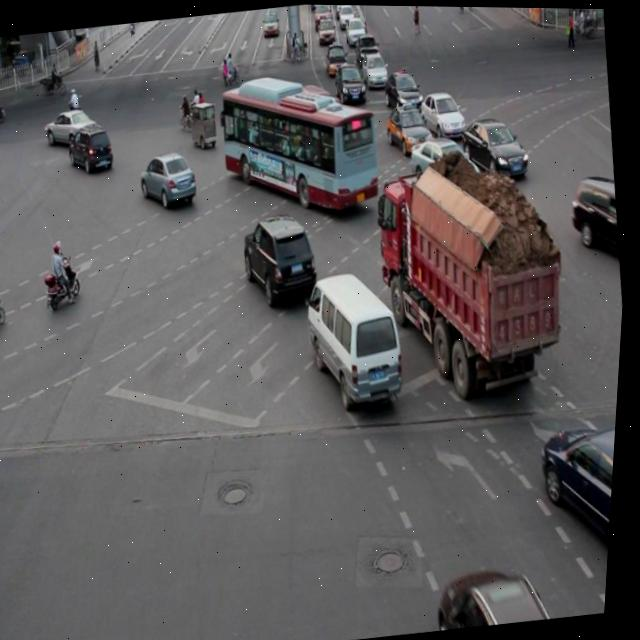bus: (369, 161, 572, 393)
car: (537, 419, 621, 578), (239, 208, 325, 309), (437, 559, 559, 630), (564, 168, 626, 257), (457, 111, 532, 182), (407, 131, 477, 193), (137, 146, 201, 211), (383, 101, 436, 158), (67, 122, 118, 176), (43, 104, 101, 148), (417, 87, 467, 138)
truck: (301, 266, 412, 408), (480, 183, 547, 250)
van: (214, 71, 388, 220)
